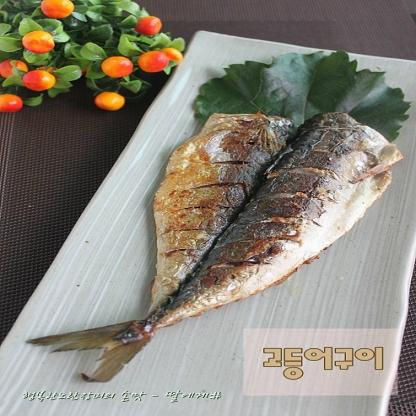Peixe: (5, 106, 416, 383)
